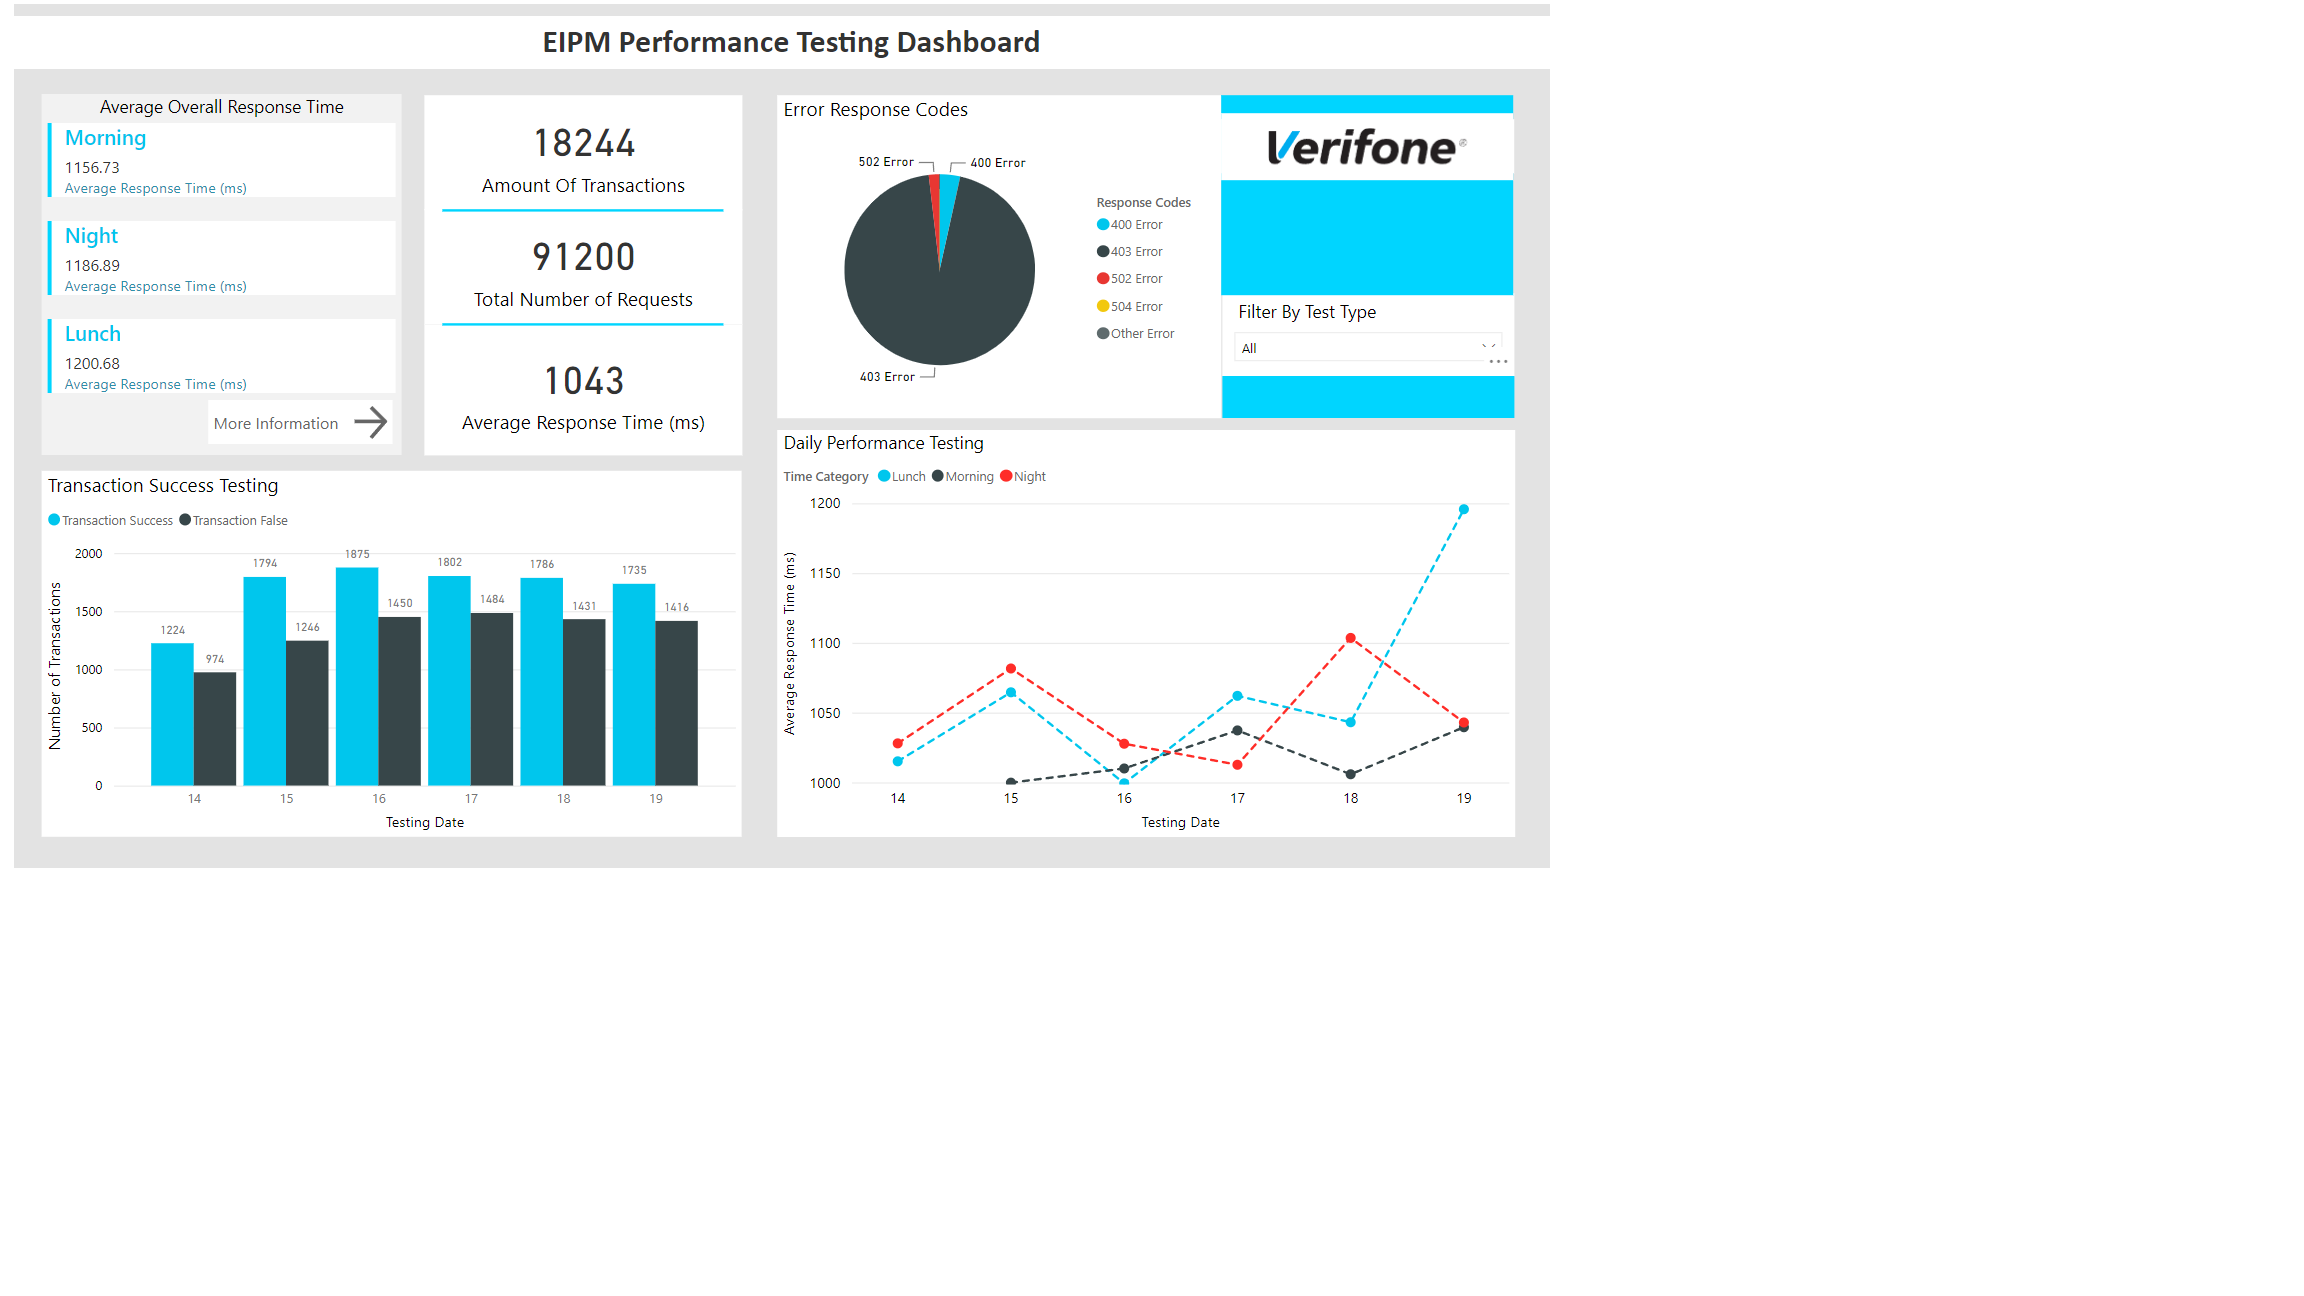

This screenshot's page, from the dashboard's own definition file:
{"tool":"powerbi","page":{"name":"Page 1","canvas":[1280,720],"ordinal":0},"visuals":[{"type":"textbox","box":[0,10,1280,44],"z":0},{"type":"card","fields":{"Values":["Count(TestTypeView.GlobalTransactionId)"]},"box":[342,76,265,96],"z":1000},{"type":"group","id":"g1","title":"Group 1","box":[23.1,389.2,583.1,304.6],"z":2000},{"type":"pieChart","title":"Failed Transactions -Response Codes","fields":{"Y":["Sum(ResponseView.Num400Error)","Sum(ResponseView.Num403Error)","Sum(ResponseView.Num502Error)","Sum(ResponseView.Num504Error)","Sum(ResponseView.NumOthersError)"]},"box":[637,76,370,269],"z":4000,"group":"g2"},{"type":"card","fields":{"Values":["Sum(TotNumRequestView.NumRequests)"]},"box":[342,171,265,96],"z":4000},{"type":"lineChart","title":"Daily Performance Testing","fields":{"Series":["DailyView.TimeCategory"],"Category":["DailyView.date.Variation.Date Hierarchy.Day"],"Y":["Avg(DailyView.AvgLatency)"]},"box":[640,355,611,339],"z":5000},{"type":"clusteredColumnChart","title":"Transaction Success Testing","fields":{"Y":["Sum(DaySuccessView.NumSuccess)","Sum(DaySuccessView.NumFalse)"],"Category":["DaySuccessView.date.Variation.Date Hierarchy.Day"]},"box":[23.1,389.2,582.5,304.7],"z":5000,"group":"g1"},{"type":"multiRowCard","title":"Average Overall Latencies","fields":{"Values":["PerformanceView.TimeCategory","Avg(PerformanceView.TotalLatency)"]},"box":[23,74.7,300,301],"z":6000},{"type":"slicer","title":"Filter","fields":{"Values":["TestTypeView.TestId (groups)"]},"box":[1008,241,243,69],"z":7000,"group":"g2"},{"type":"card","fields":{"Values":["Sum(AvgResponseTimeView.AvgResponseTime)"]},"box":[342,267,265,109],"z":7000},{"type":"shape","box":[357,97,234,150],"z":8000},{"type":"shape","box":[357,191.7,234,150],"z":9000},{"type":"shape","box":[1008,310,243,35],"z":9000,"group":"g2"},{"type":"shape","box":[1007,76,243,167],"z":10000,"group":"g2"},{"type":"actionButton","box":[162,330,153,37],"z":10000},{"type":"shape","box":[1007,91,243,56],"z":11000,"group":"g2"},{"type":"actionButton","box":[1007,96,244,45],"z":12000,"group":"g2"},{"type":"group","id":"g2","title":"Group 2","box":[637,76,614,269],"z":12001}]}

Visuals, with their boxes in screenshot pixels (x1, y1, x2, y2), scaled from the page's 1280x720 canvas onto the 2304x1296 screenshot:
textbox: pyautogui.locateOnScreen(0, 18, 2303, 97)
card - Count(TestTypeView.GlobalTransactionId): pyautogui.locateOnScreen(616, 137, 1093, 310)
"Group 1" group: pyautogui.locateOnScreen(42, 701, 1091, 1249)
"Failed Transactions -Response Codes" pieChart: pyautogui.locateOnScreen(1147, 137, 1813, 621)
card - Sum(TotNumRequestView.NumRequests): pyautogui.locateOnScreen(616, 308, 1093, 481)
"Daily Performance Testing" lineChart: pyautogui.locateOnScreen(1152, 639, 2252, 1249)
"Transaction Success Testing" clusteredColumnChart: pyautogui.locateOnScreen(42, 701, 1090, 1249)
"Average Overall Latencies" multiRowCard: pyautogui.locateOnScreen(41, 134, 581, 676)
"Filter" slicer: pyautogui.locateOnScreen(1814, 434, 2252, 558)
card - Sum(AvgResponseTimeView.AvgResponseTime): pyautogui.locateOnScreen(616, 481, 1093, 677)
shape: pyautogui.locateOnScreen(643, 175, 1064, 445)
shape: pyautogui.locateOnScreen(643, 345, 1064, 615)
shape: pyautogui.locateOnScreen(1814, 558, 2252, 621)
shape: pyautogui.locateOnScreen(1813, 137, 2250, 437)
actionButton: pyautogui.locateOnScreen(292, 594, 567, 661)
shape: pyautogui.locateOnScreen(1813, 164, 2250, 265)
actionButton: pyautogui.locateOnScreen(1813, 173, 2252, 254)
"Group 2" group: pyautogui.locateOnScreen(1147, 137, 2252, 621)
